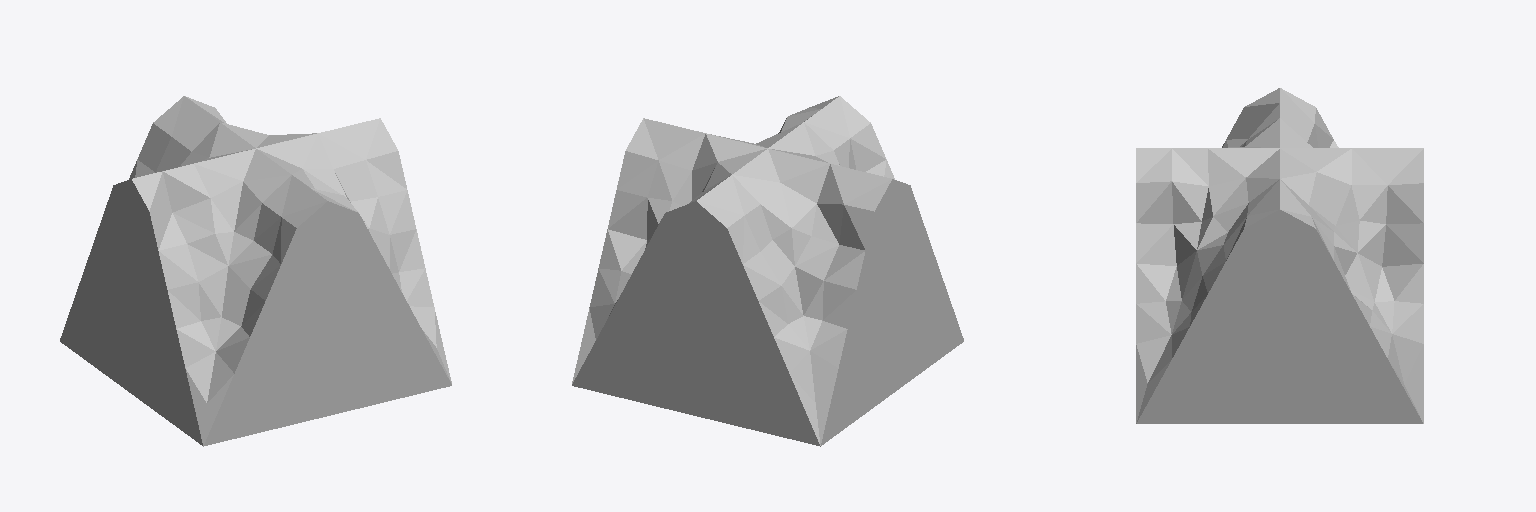
The model's file is quadra_edge.obj.
3 views of the same model, side by side, from view 1: azimuth 30°, elevation 25°; view 2: azimuth 150°, elevation 25°; view 3: azimuth 270°, elevation 25° (orthographic).
Parts seen in each view (by area): view 1: Cube.012_Cube.022; view 2: Cube.012_Cube.022; view 3: Cube.012_Cube.022.
Boxes of the visible parts, x1=… form: Cube.012_Cube.022: x1=60, y1=96, x2=451, y2=446; Cube.012_Cube.022: x1=572, y1=96, x2=963, y2=446; Cube.012_Cube.022: x1=1136, y1=88, x2=1423, y2=423.
Bounding box in the file's own units: 1 × 0.825 × 1.